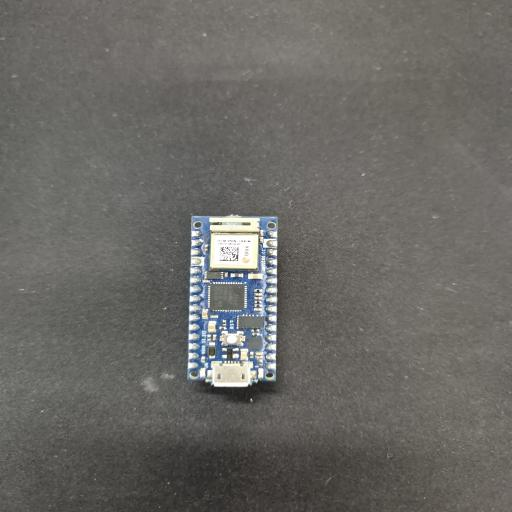arduino-nano-iot-33: (188, 215, 277, 387)
